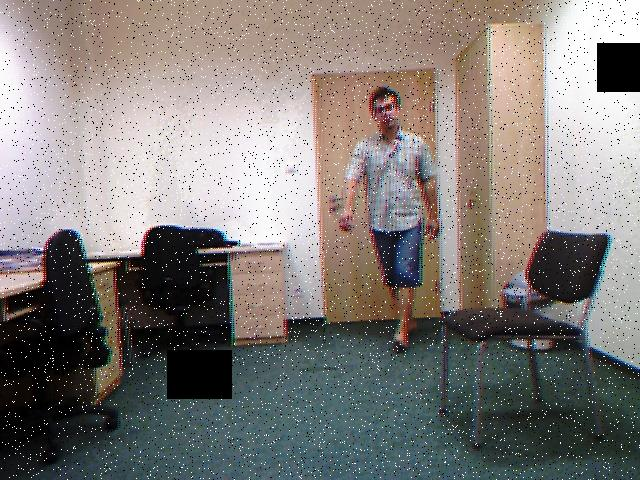standing: (332, 82, 456, 354)
